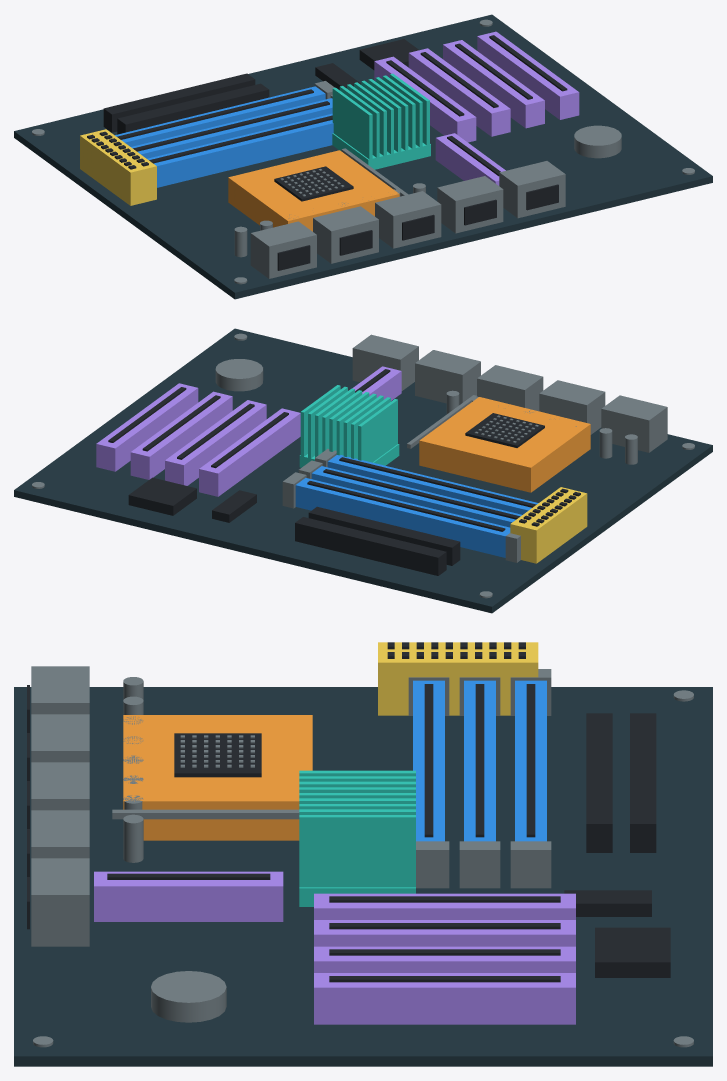
The model's file is motherboard-highlighted.glb.
3 views of the same model, one above another, from view 1: azimuth 30°, elevation 25°; view 2: azimuth 150°, elevation 25°; view 3: azimuth 270°, elevation 25° (orthographic). The views are drawn at different scales.
Visible parts, largest first — view 1: Motherboard_pcb, Motherboard_black, Motherboard_metal, Motherboard_expansion, Motherboard_ram, Motherboard_chipset, Motherboard_cpu, Motherboard_power; view 2: Motherboard_pcb, Motherboard_metal, Motherboard_black, Motherboard_expansion, Motherboard_ram, Motherboard_cpu, Motherboard_chipset, Motherboard_power; view 3: Motherboard_pcb, Motherboard_expansion, Motherboard_metal, Motherboard_black, Motherboard_cpu, Motherboard_chipset, Motherboard_ram, Motherboard_power.
Boxes of the visible parts, x1=… form: Motherboard_pcb: x1=14, y1=14, x2=712, y2=299; Motherboard_black: x1=87, y1=35, x2=567, y2=270; Motherboard_metal: x1=32, y1=19, x2=694, y2=284; Motherboard_expansion: x1=374, y1=31, x2=579, y2=185; Motherboard_ram: x1=115, y1=86, x2=333, y2=187; Motherboard_chipset: x1=332, y1=73, x2=430, y2=169; Motherboard_cpu: x1=228, y1=150, x2=399, y2=231; Motherboard_power: x1=80, y1=129, x2=156, y2=205; Motherboard_pcb: x1=14, y1=328, x2=712, y2=613; Motherboard_metal: x1=32, y1=333, x2=694, y2=598; Motherboard_black: x1=108, y1=369, x2=580, y2=575; Motherboard_expansion: x1=96, y1=366, x2=401, y2=496; Motherboard_ram: x1=295, y1=455, x2=538, y2=557; Motherboard_cpu: x1=419, y1=397, x2=590, y2=492; Motherboard_chipset: x1=299, y1=385, x2=399, y2=467; Motherboard_power: x1=510, y1=487, x2=587, y2=563; Motherboard_pcb: x1=14, y1=687, x2=712, y2=1066; Motherboard_expansion: x1=94, y1=871, x2=575, y2=1024; Motherboard_metal: x1=31, y1=666, x2=693, y2=1047; Motherboard_black: x1=27, y1=642, x2=670, y2=982; Motherboard_cpu: x1=123, y1=715, x2=312, y2=840; Motherboard_chipset: x1=299, y1=770, x2=415, y2=906; Motherboard_ram: x1=413, y1=680, x2=546, y2=841; Motherboard_power: x1=378, y1=642, x2=538, y2=715.
Bounding box in the file's own units: 0.6 × 0.076 × 0.48.
